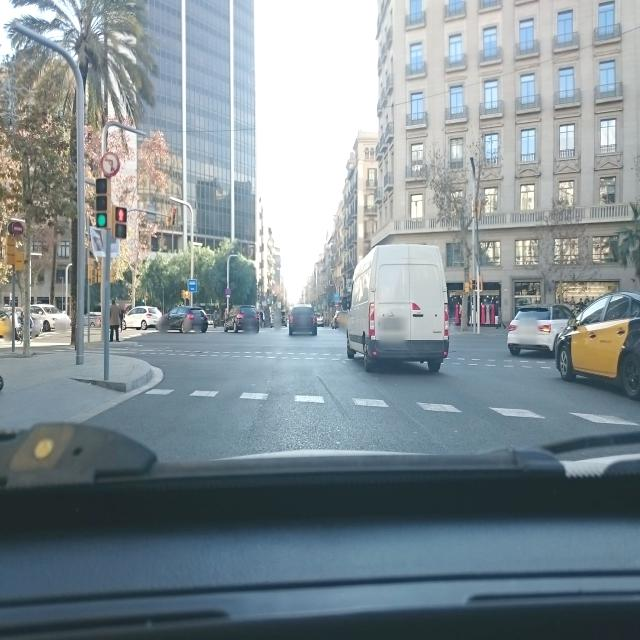car: (345, 242, 450, 373), (554, 288, 640, 402), (507, 303, 578, 357), (165, 305, 209, 334), (30, 303, 70, 331), (223, 304, 260, 334), (287, 303, 318, 337), (123, 306, 162, 330), (29, 306, 58, 332), (331, 310, 350, 330), (85, 312, 102, 327)
